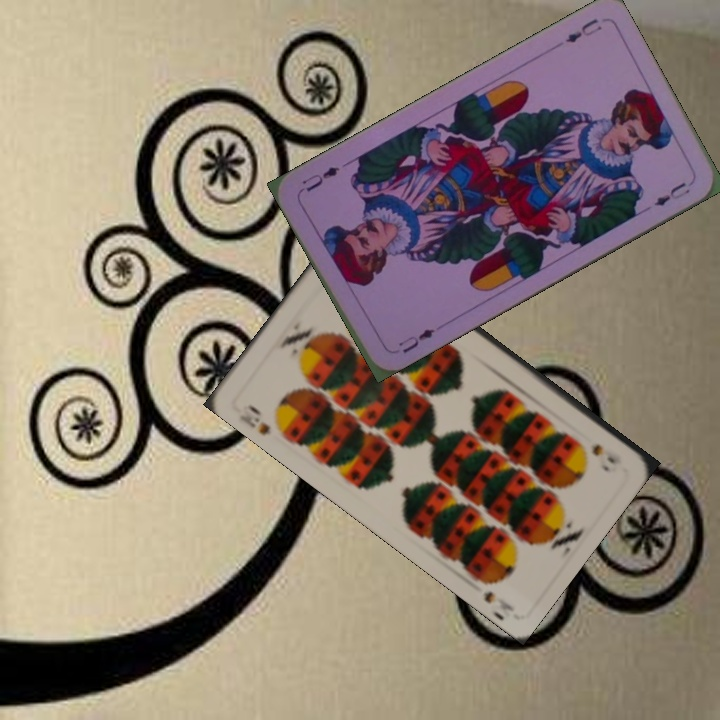EU: (394, 324, 438, 356), (561, 14, 605, 46)
S10: (235, 400, 273, 438), (586, 439, 625, 468)
